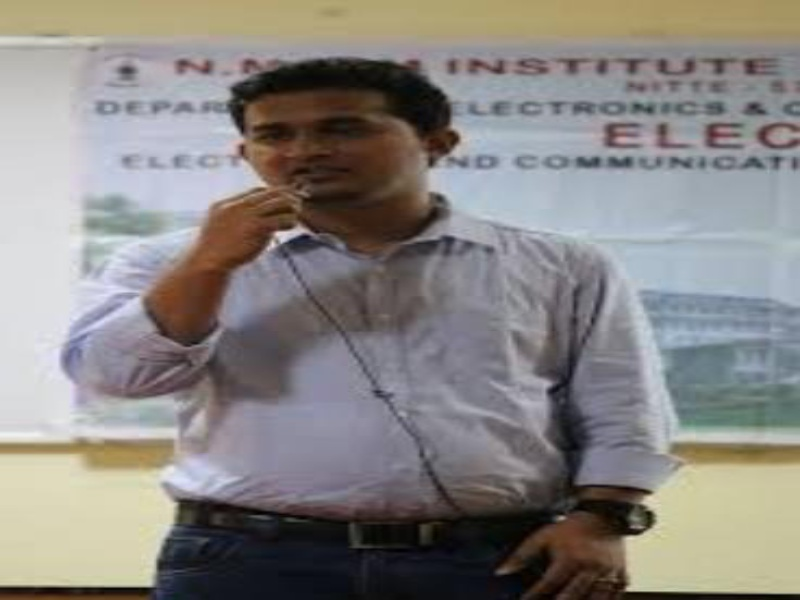TsisyArotava: (211, 52, 476, 261)
